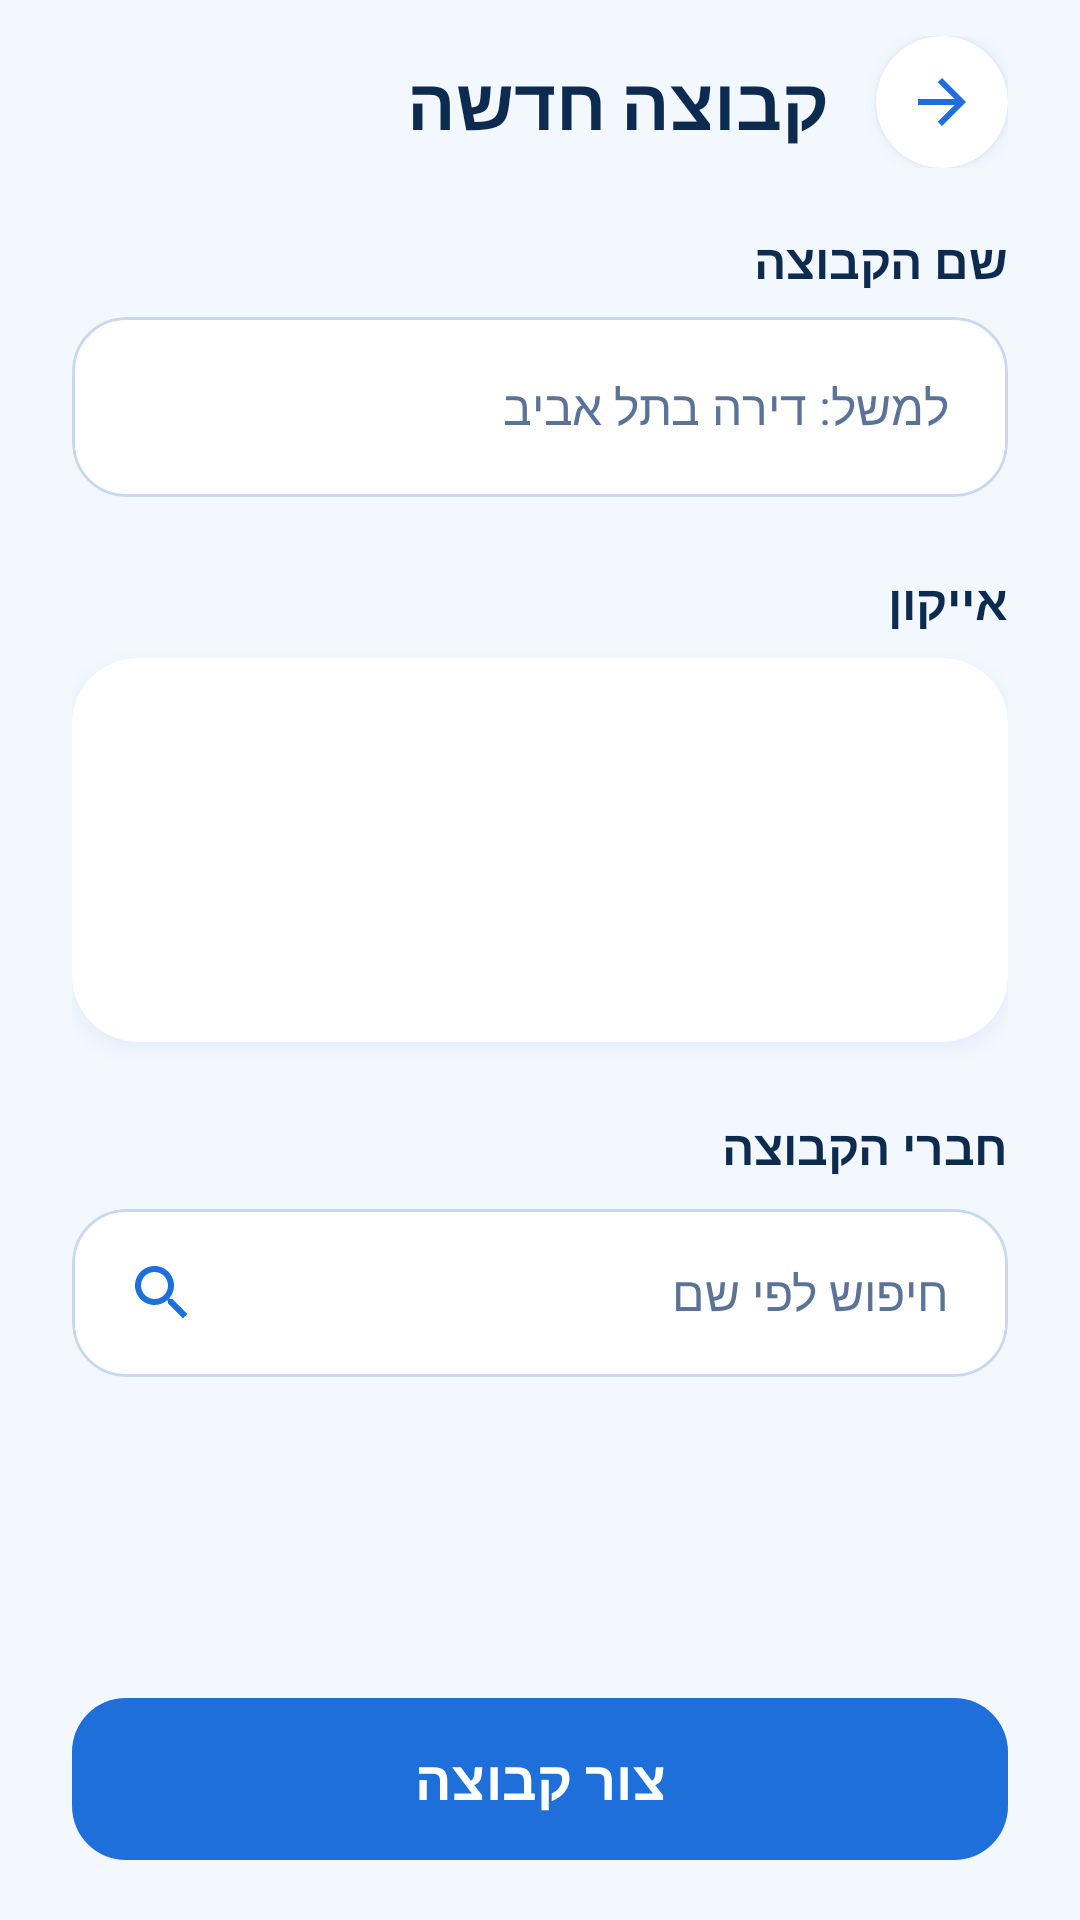

Screen size 1080x1920. Icon name, then its center in pixels as (x,y):
search: (161,1292)
חזרה: (942,102)
